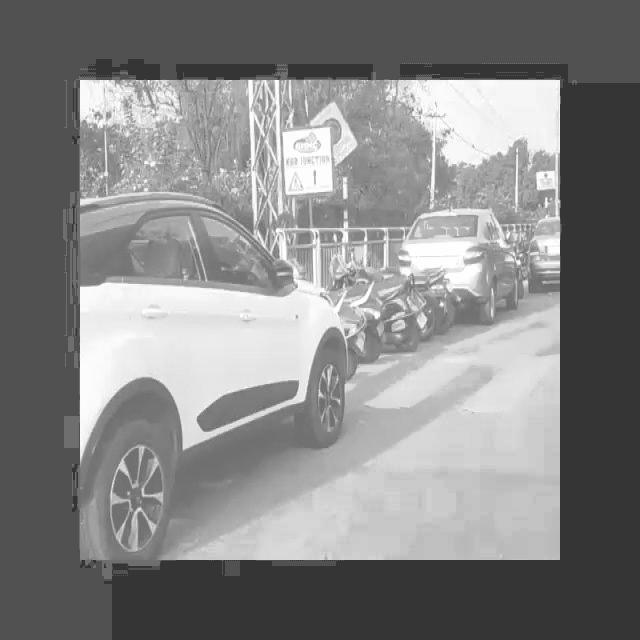Car: (79, 184, 370, 558), (389, 204, 526, 324), (528, 198, 564, 298)
